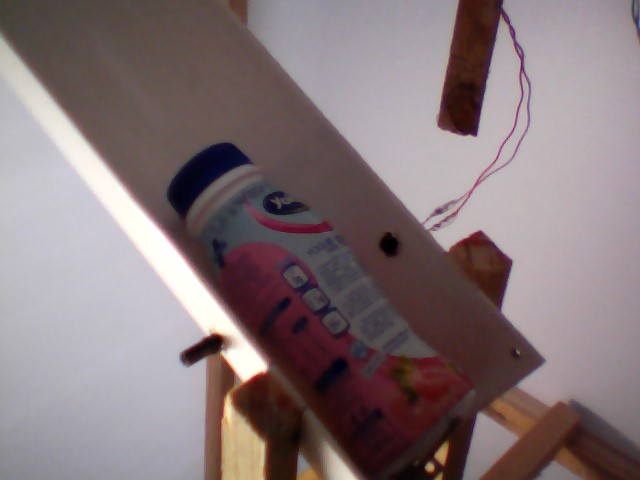plastico: (161, 136, 482, 480)
